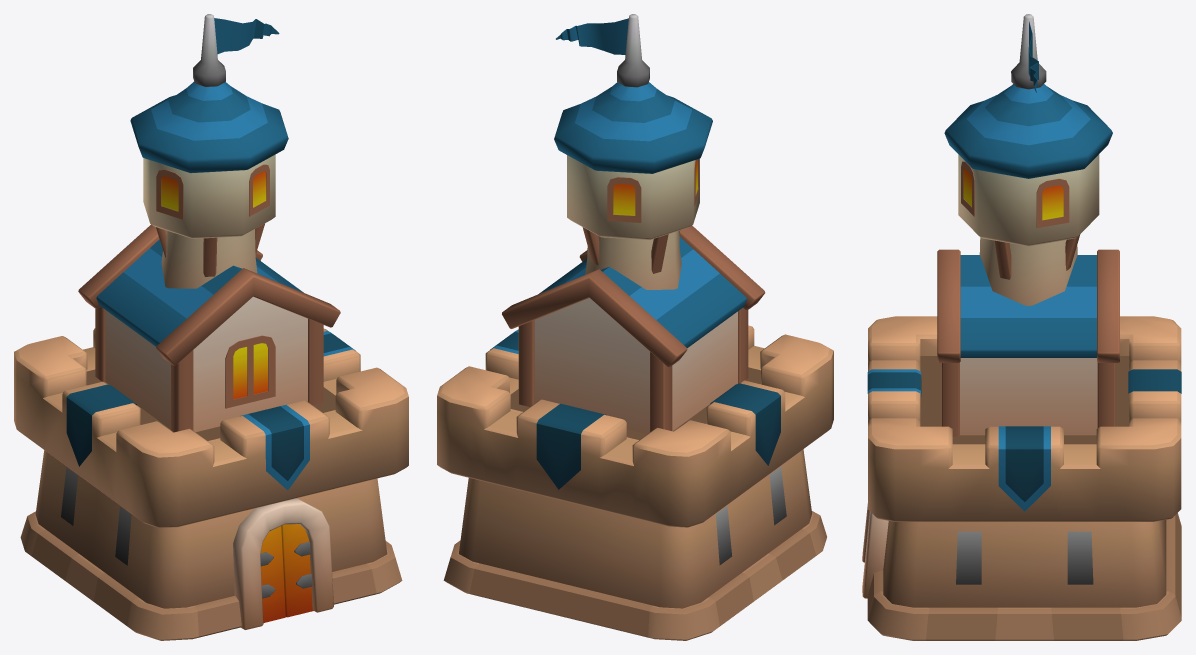
File: SmallCastle_2.fbx
The picture shows the model from 3 angles, left to right: view 1: azimuth 30°, elevation 25°; view 2: azimuth 150°, elevation 25°; view 3: azimuth 270°, elevation 25°; orthographic projection. The views are drawn at different scales.
Parts seen in each view (by area): view 1: SmallCastle_2; view 2: SmallCastle_2; view 3: SmallCastle_2.
Boxes of the visible parts, x1,y1,x2,y2 form: SmallCastle_2: [14, 14, 408, 640]; SmallCastle_2: [437, 14, 833, 640]; SmallCastle_2: [862, 14, 1181, 640].
Size of the model in its own units: 363 by 718 by 369.
